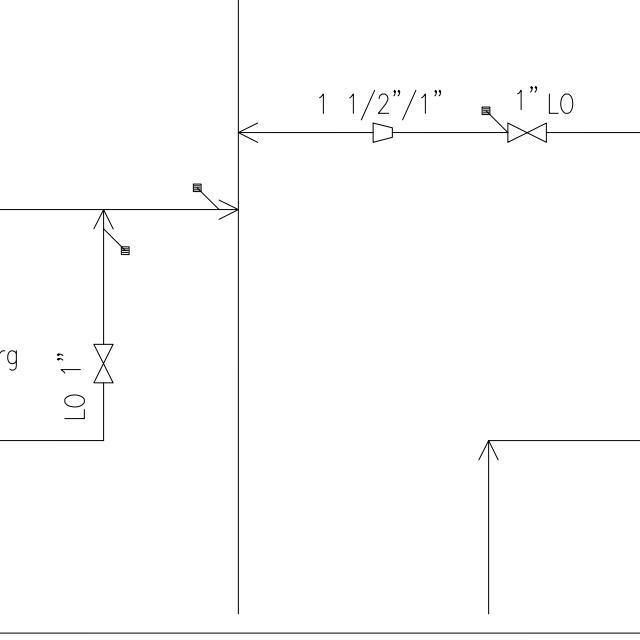GV: (90, 338, 119, 388), (502, 117, 552, 144)
SP: (367, 119, 398, 144)
